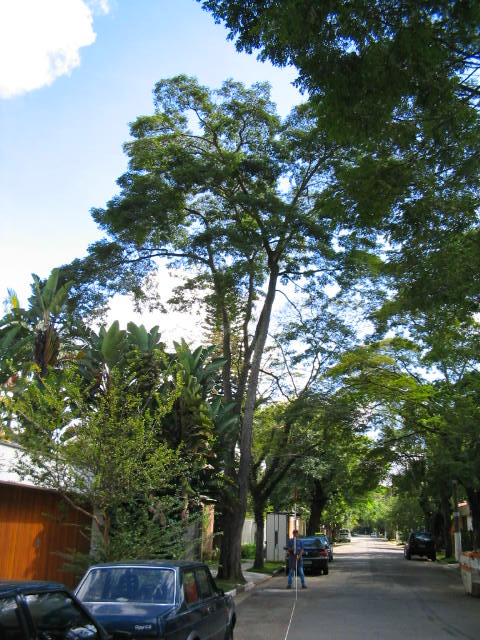crown: (91, 78, 345, 294)
stem: (209, 482, 258, 583)
stick: (290, 487, 302, 592)
tree: (89, 76, 345, 582)
